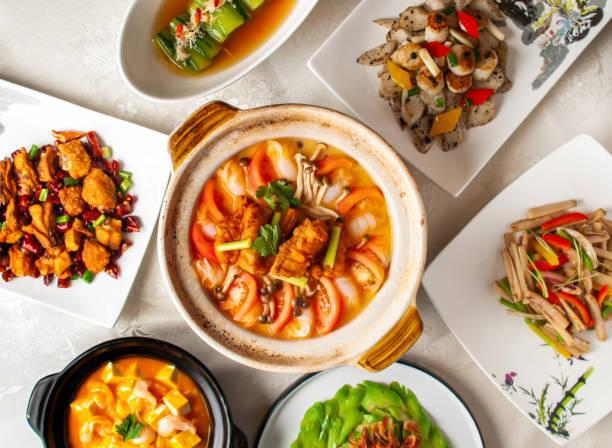Braised Crucian Carp: (160, 101, 425, 374), (419, 136, 612, 447)
